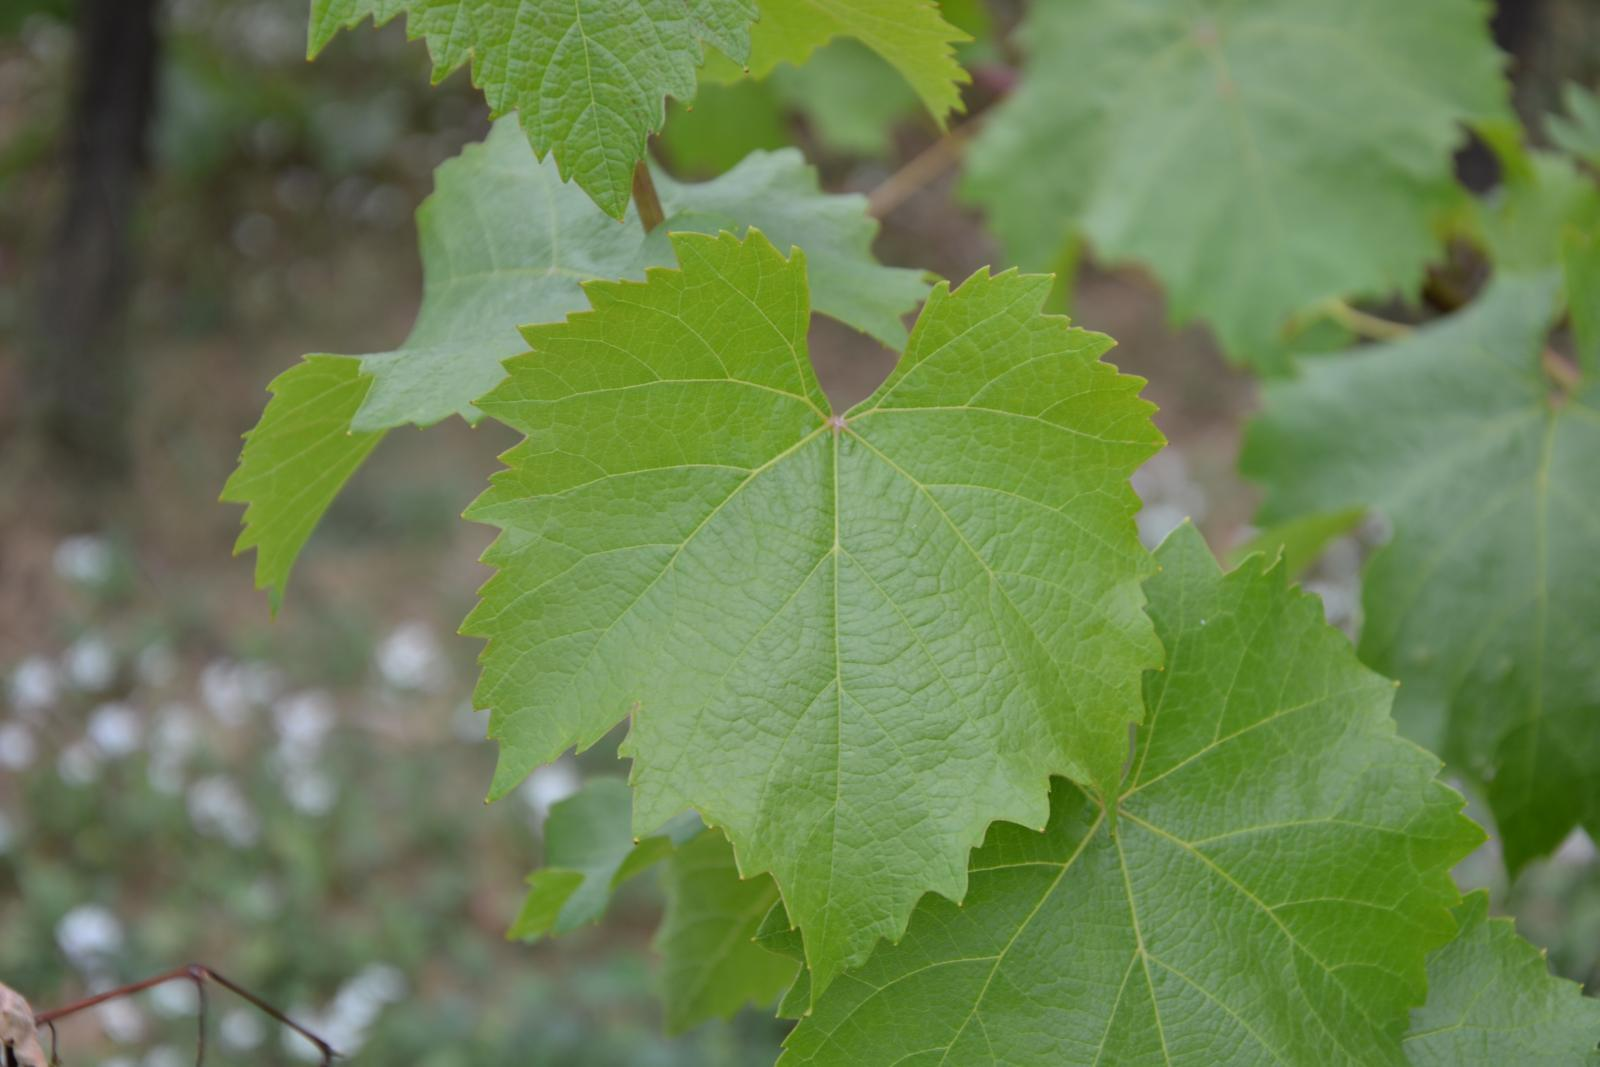grape leaf black rot: (457, 233, 1185, 1007), (823, 616, 1467, 1067)
